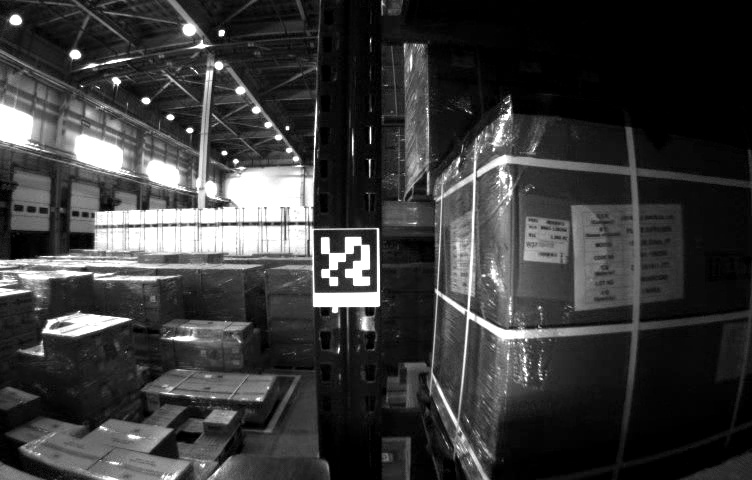True Barcode: (522, 215, 568, 269)
